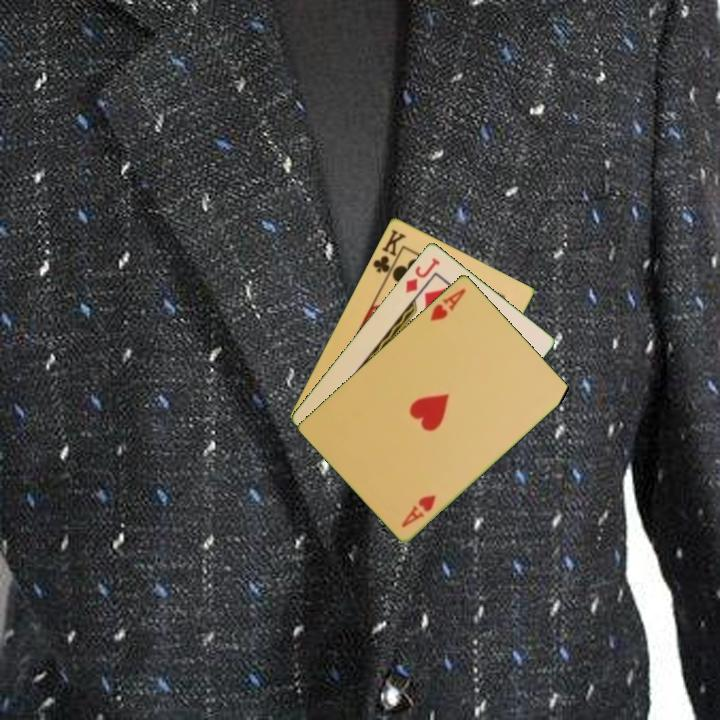Ah: (426, 284, 469, 324), (398, 491, 439, 530)
Jd: (402, 254, 443, 296)
Kc: (369, 225, 409, 281)
